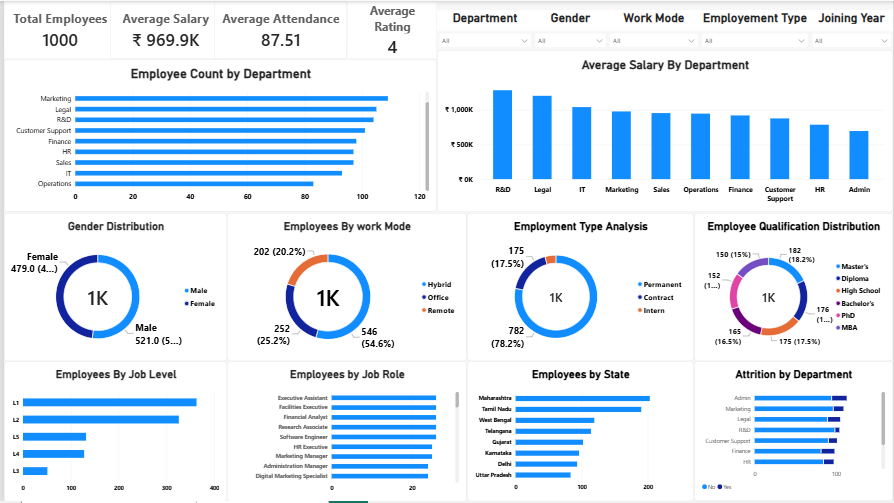

The page's visual inventory and layout, read from the dashboard file:
{"tool":"powerbi","page":{"name":"HR_Analysys_DAshboard ","canvas":[1920,1080],"ordinal":0},"visuals":[{"type":"cardVisual","title":"Total Employees ","fields":{"Data":["HR_Employee_Data.Total Employees"]},"box":[0,0,298.1,125.3],"z":0},{"type":"cardVisual","fields":{"Data":["HR_Employee_Data.Avg Salary"]},"box":[298.1,0,183.6,125.3],"z":1000},{"type":"cardVisual","fields":{"Data":["HR_Employee_Data.Avg Rating"]},"box":[740.9,0,194.4,125.3],"z":2000},{"type":"cardVisual","fields":{"Data":["HR_Employee_Data.Avg Attendance"]},"box":[481.7,0,259.2,125.3],"z":3000},{"type":"clusteredBarChart","title":"Employee Count by Department","fields":{"Category":["HR_Employee_Data.Department","HR_Employee_Data.Job Role"],"Y":["CountNonNull(HR_Employee_Data.Employee ID)"]},"box":[0,125.3,935.3,330.5],"z":4000},{"type":"clusteredColumnChart","title":"Avg Salary pf Employees ","fields":{"Category":["HR_Employee_Data.Department"],"Y":["Avg(HR_Employee_Data.Annual Salary (INR))"]},"box":[935.3,105.8,985,349.9],"z":5000},{"type":"donutChart","title":"Gender Distribution of Employees ","fields":{"Category":["HR_Employee_Data.Gender"],"Y":["CountNonNull(HR_Employee_Data.Employee ID)"]},"box":[0,457,482.1,320.5],"z":6000},{"type":"donutChart","title":"Work Mode Distribution ","fields":{"Category":["HR_Employee_Data.Work Mode"],"Y":["CountNonNull(HR_Employee_Data.Employee ID)"]},"box":[482.1,457,518.3,320.5],"z":7000},{"type":"donutChart","title":"Employment Type","fields":{"Category":["HR_Employee_Data.Employment Type"],"Y":["CountNonNull(HR_Employee_Data.Employee ID)"]},"box":[1000.4,457,490.4,320.5],"z":8000},{"type":"clusteredBarChart","title":"Employee distribution on Job Levels","fields":{"Category":["HR_Employee_Data.Job Level"],"Y":["CountNonNull(HR_Employee_Data.Employee ID)"]},"box":[0,777.5,482.1,303.7],"z":9000},{"type":"donutChart","title":"Qualification of Employees ","fields":{"Category":["HR_Employee_Data.Education"],"Y":["CountNonNull(HR_Employee_Data.Employee ID)"]},"box":[1490.9,457,429.1,320.5],"z":10000},{"type":"barChart","fields":{"Category":["HR_Employee_Data.Job Role"],"Y":["CountNonNull(HR_Employee_Data.Employee ID)"]},"box":[482.1,777.5,518.3,303.7],"z":11000},{"type":"barChart","title":"State Wise Employment Count","fields":{"Y":["CountNonNull(HR_Employee_Data.Employee ID)"],"Category":["HR_Employee_Data.State"]},"box":[1000.4,777.5,490,303],"z":12000},{"type":"barChart","title":"Attriton By Department ","fields":{"Series":["HR_Employee_Data.Attrition"],"Category":["HR_Employee_Data.Department"],"Y":["CountNonNull(HR_Employee_Data.Employee ID)"]},"box":[1490.4,777.6,429.8,302.4],"z":12001},{"type":"actionButton","box":[0,0,100,40],"z":12002},{"type":"slicer","title":"Department","fields":{"Values":["HR_Employee_Data.Department"]},"box":[935.3,19.4,207.4,123.1],"z":12003},{"type":"slicer","title":"Gender ","fields":{"Values":["HR_Employee_Data.Gender"]},"box":[1142.6,19.4,162,123.1],"z":12005},{"type":"slicer","title":"Work Mode  ","fields":{"Values":["HR_Employee_Data.Work Mode"]},"box":[1304.6,19.4,198.7,123.1],"z":12006},{"type":"slicer","title":"Employement Type ","fields":{"Values":["HR_Employee_Data.Employment Type"]},"box":[1503.4,19.4,237.6,123.1],"z":12007},{"type":"slicer","title":"Joining Year","fields":{"Values":["HR_Employee_Data.Joining Year "]},"box":[1741,19.4,179.3,123.1],"z":12008}]}

Visuals, with their boxes in screenshot pixels (x1, y1, x2, y2), scaled from the page's 1920x1080 canvas onto the 894x503 screenshot:
"Total Employees " cardVisual: pyautogui.locateOnScreen(0, 0, 139, 58)
cardVisual - HR_Employee_Data.Avg Salary: pyautogui.locateOnScreen(139, 0, 224, 58)
cardVisual - HR_Employee_Data.Avg Rating: pyautogui.locateOnScreen(345, 0, 435, 58)
cardVisual - HR_Employee_Data.Avg Attendance: pyautogui.locateOnScreen(224, 0, 345, 58)
"Employee Count by Department" clusteredBarChart: pyautogui.locateOnScreen(0, 58, 435, 212)
"Avg Salary pf Employees " clusteredColumnChart: pyautogui.locateOnScreen(435, 49, 893, 212)
"Gender Distribution of Employees " donutChart: pyautogui.locateOnScreen(0, 213, 224, 362)
"Work Mode Distribution " donutChart: pyautogui.locateOnScreen(224, 213, 466, 362)
"Employment Type" donutChart: pyautogui.locateOnScreen(466, 213, 694, 362)
"Employee distribution on Job Levels" clusteredBarChart: pyautogui.locateOnScreen(0, 362, 224, 502)
"Qualification of Employees " donutChart: pyautogui.locateOnScreen(694, 213, 893, 362)
barChart - HR_Employee_Data.Job Role x CountNonNull(HR_Employee_Data.Employee ID): pyautogui.locateOnScreen(224, 362, 466, 502)
"State Wise Employment Count" barChart: pyautogui.locateOnScreen(466, 362, 694, 502)
"Attriton By Department " barChart: pyautogui.locateOnScreen(694, 362, 893, 502)
actionButton: pyautogui.locateOnScreen(0, 0, 47, 19)
"Department" slicer: pyautogui.locateOnScreen(435, 9, 532, 66)
"Gender " slicer: pyautogui.locateOnScreen(532, 9, 607, 66)
"Work Mode  " slicer: pyautogui.locateOnScreen(607, 9, 700, 66)
"Employement Type " slicer: pyautogui.locateOnScreen(700, 9, 811, 66)
"Joining Year" slicer: pyautogui.locateOnScreen(811, 9, 893, 66)
